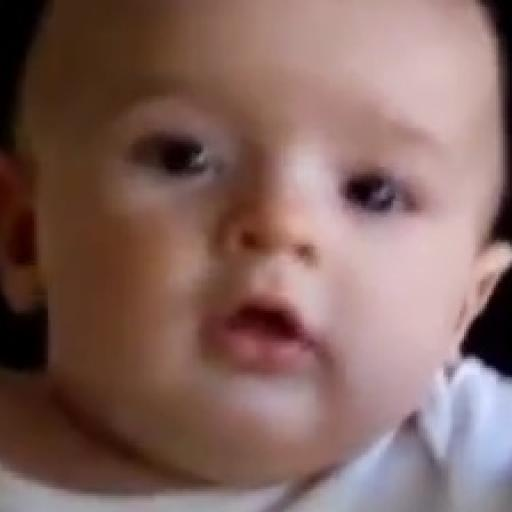Autism: (48, 5, 512, 462)
